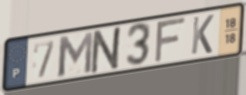3: (125, 21, 153, 69)
7: (32, 39, 56, 79)
F: (153, 15, 188, 65)
K: (190, 13, 216, 57)
M: (57, 29, 95, 78)
N: (89, 24, 125, 76)
